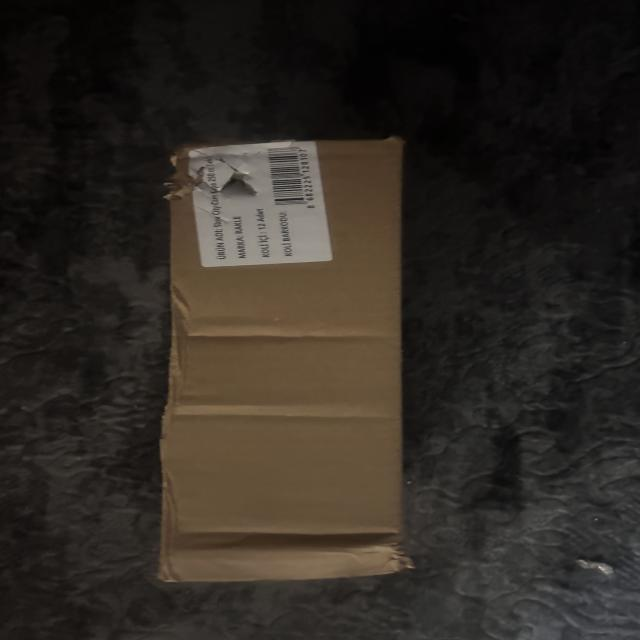damaged: (166, 132, 412, 582), (206, 159, 273, 213)
